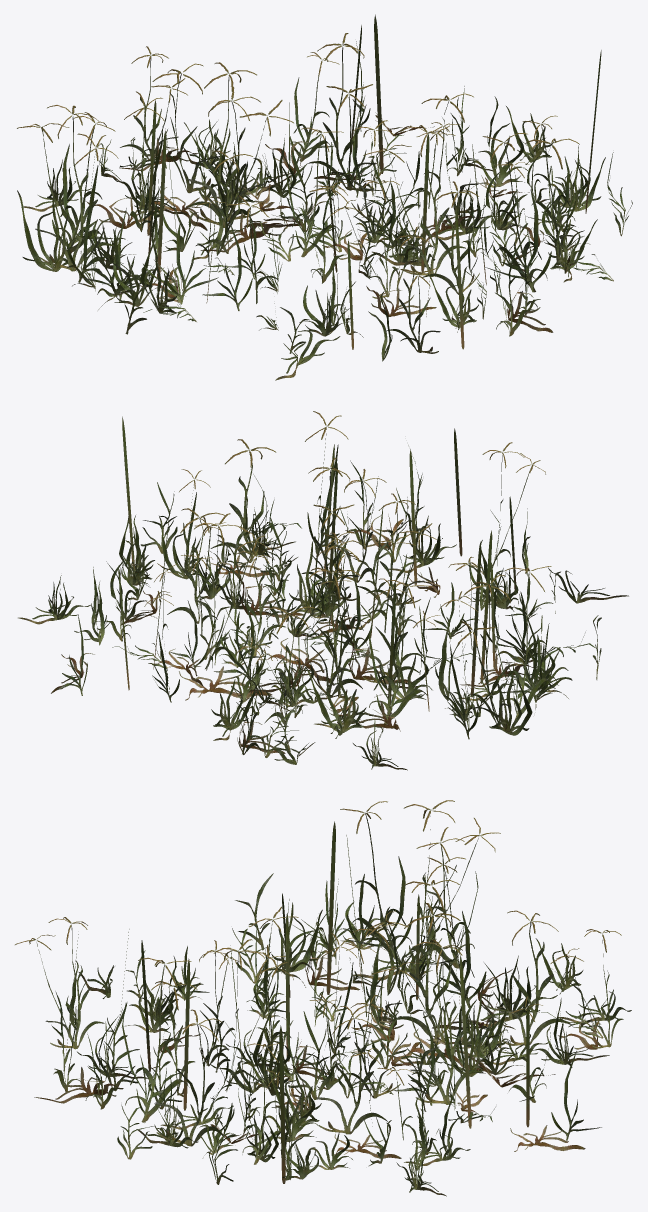
The model's file is grass-clump.glb.
3 renders of one model, top to bottom at view 1: azimuth 30°, elevation 25°; view 2: azimuth 150°, elevation 25°; view 3: azimuth 270°, elevation 25°, orthographic. The views are drawn at different scales.
Visible parts, largest first — view 1: grass-clump_LOD0; view 2: grass-clump_LOD0; view 3: grass-clump_LOD0.
Boxes of the visible parts, left/top/right/bottom form: grass-clump_LOD0: left=17, top=14, right=632, bottom=380; grass-clump_LOD0: left=18, top=411, right=628, bottom=770; grass-clump_LOD0: left=15, top=800, right=631, bottom=1196.
Size of what is drawn, in the model's own units: 0.6313 by 0.1863 by 0.6211.
1 material, 1 textured.
